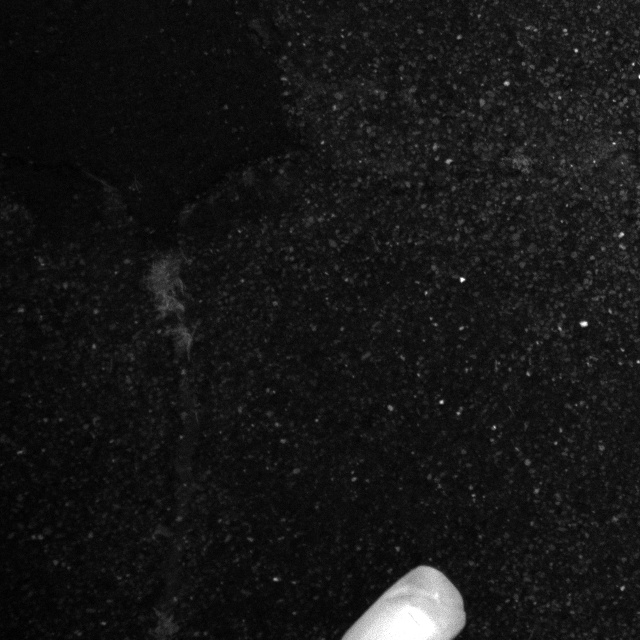can: (320, 551, 502, 640)
